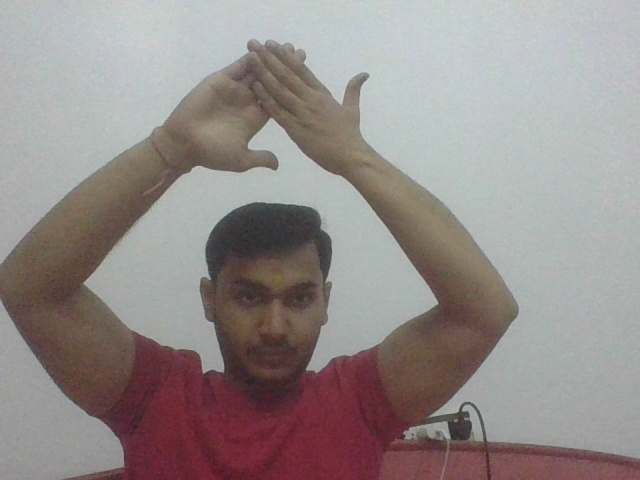H: (172, 39, 377, 180)
